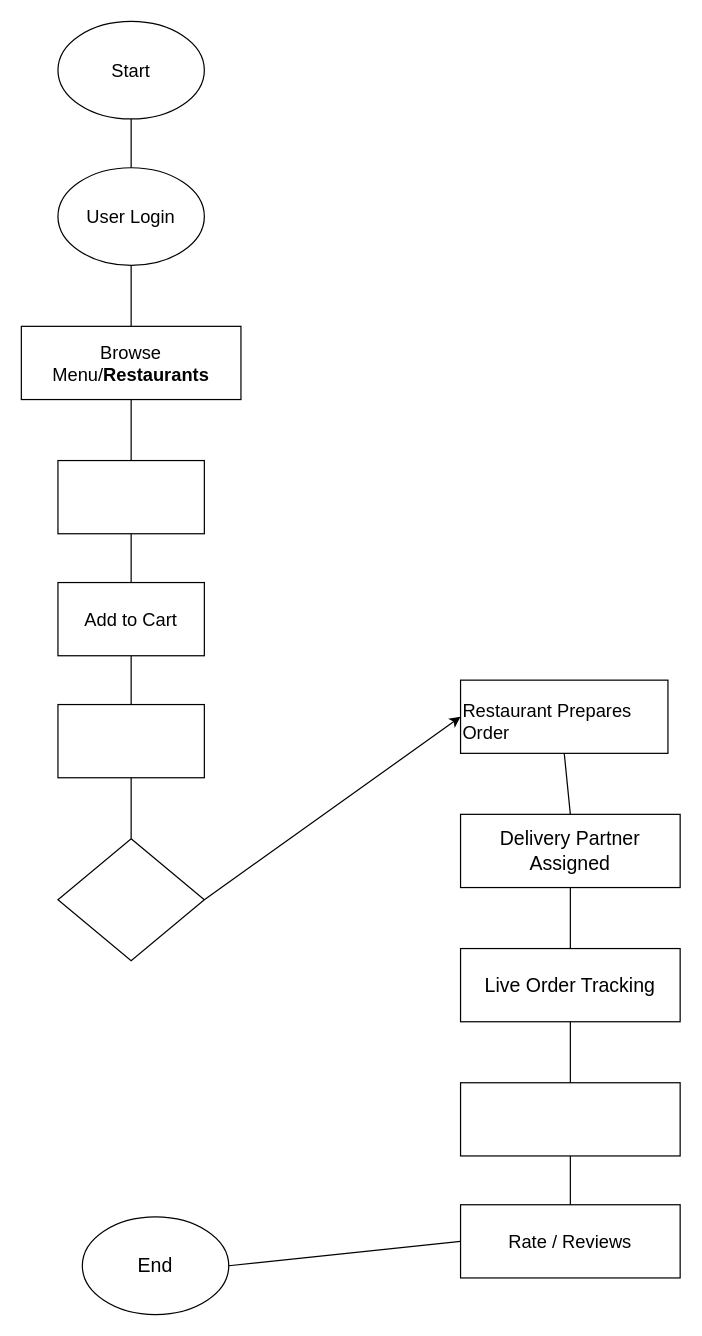
The diagram is 702 pixels wide and 1336 high, and some of its shapes have lost their labels. Here are the shapes that lost their labels. From the top down, the centre of each, then its label:
At [130,496]: "Select Food Items".
At [130,740]: "Place Order".
At [130,899]: "Payment".
At [569,1119]: "Order Delivered".
